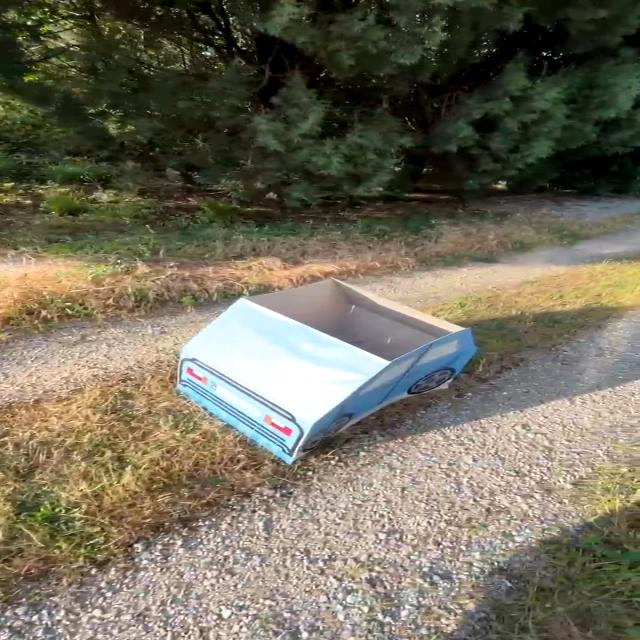blue_car: (110, 262, 534, 477)
